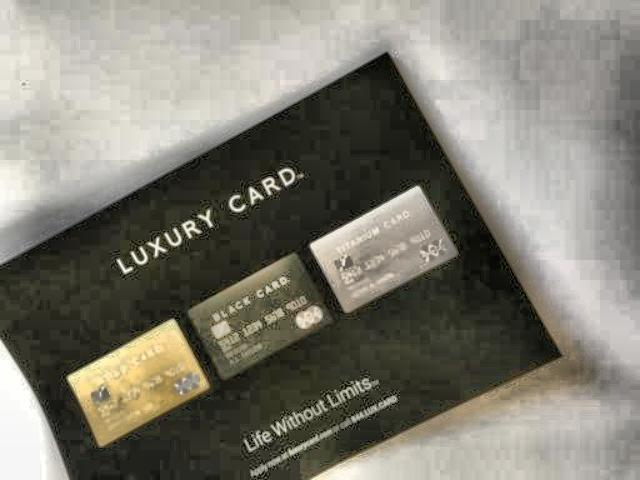Paper: (0, 49, 572, 480)
